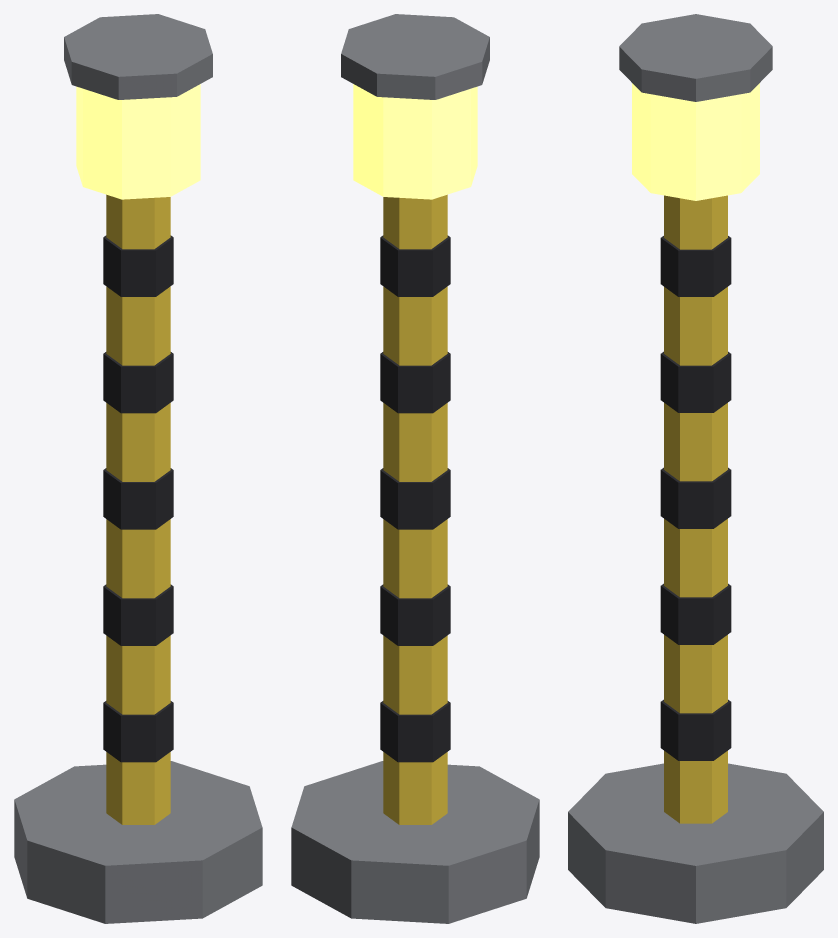
The model's file is SM_Landing_Light.fbx.
3 renders of one model, left to right at view 1: azimuth 30°, elevation 25°; view 2: azimuth 150°, elevation 25°; view 3: azimuth 270°, elevation 25°, orthographic.
Parts seen in each view (by area): view 1: SM_Landing_Light; view 2: SM_Landing_Light; view 3: SM_Landing_Light.
Part boxes in pixels (x1,y1,x2,y2): SM_Landing_Light: (14, 14, 262, 923); SM_Landing_Light: (291, 14, 539, 923); SM_Landing_Light: (568, 14, 823, 923).
Bounding box in the file's own units: 0.4 × 1.42 × 0.4.
